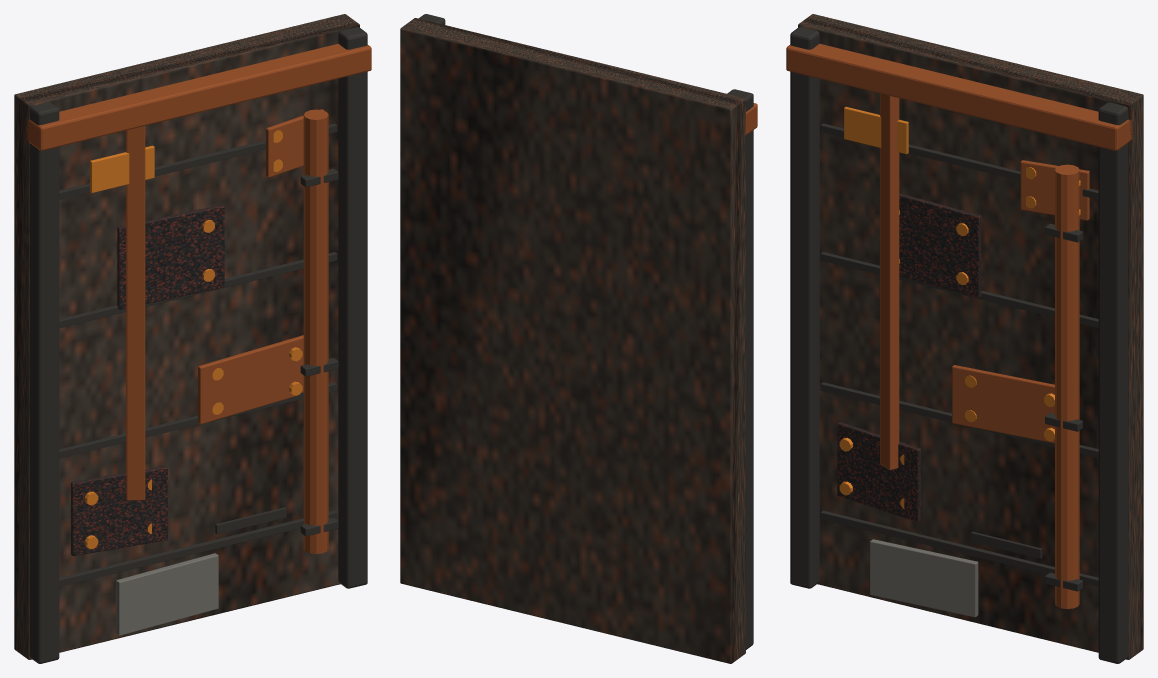
Rendered from rugged_basement_wall.glb.
The picture shows the model from 3 angles, left to right: view 1: azimuth 30°, elevation 25°; view 2: azimuth 150°, elevation 25°; view 3: azimuth 330°, elevation 25°; orthographic projection.
Parts seen in each view (by area): view 1: Damp structural backing, Left bent upright, Right bent upright, Top patched lintel, Leaking conduit, Diagonal brace, Welded patch 2, Welded patch 0, Cracked concrete patch, Welded patch 1, Broken horizontal seam, Welded patch 3 (+5 smaller); view 2: Damp structural backing, Left bent upright; view 3: Damp structural backing, Right bent upright, Left bent upright, Top patched lintel, Leaking conduit, Diagonal brace, Welded patch 2, Cracked concrete patch, Welded patch 1, Welded patch 0, Broken horizontal seam, Welded patch 3 (+5 smaller).
Part boxes in pixels (box(x1,y1,x2,y2)): Damp structural backing: box(14, 14, 359, 659); Left bent upright: box(29, 102, 59, 663); Right bent upright: box(338, 27, 367, 588); Top patched lintel: box(25, 43, 371, 150); Leaking conduit: box(303, 109, 328, 553); Diagonal brace: box(126, 126, 145, 500); Welded patch 2: box(117, 204, 224, 309); Welded patch 0: box(71, 466, 167, 555); Cracked concrete patch: box(116, 553, 218, 635); Welded patch 1: box(198, 335, 303, 424); Broken horizontal seam: box(59, 510, 337, 586); Welded patch 3: box(266, 109, 324, 177); Damp structural backing: box(400, 18, 745, 663); Left bent upright: box(727, 89, 753, 649); Damp structural backing: box(798, 14, 1143, 659); Right bent upright: box(1098, 102, 1128, 663); Left bent upright: box(790, 27, 819, 588); Top patched lintel: box(786, 43, 1132, 150); Leaking conduit: box(1055, 164, 1079, 608); Diagonal brace: box(880, 93, 899, 470); Welded patch 2: box(899, 193, 981, 297); Cracked concrete patch: box(870, 539, 978, 617); Welded patch 1: box(952, 365, 1054, 443); Welded patch 0: box(837, 422, 920, 522); Broken horizontal seam: box(820, 510, 1098, 586); Welded patch 3: box(1020, 160, 1089, 220).
Bounding box in the file's own units: 2 × 3.2 × 0.315.
6 materials, 2 textured.
